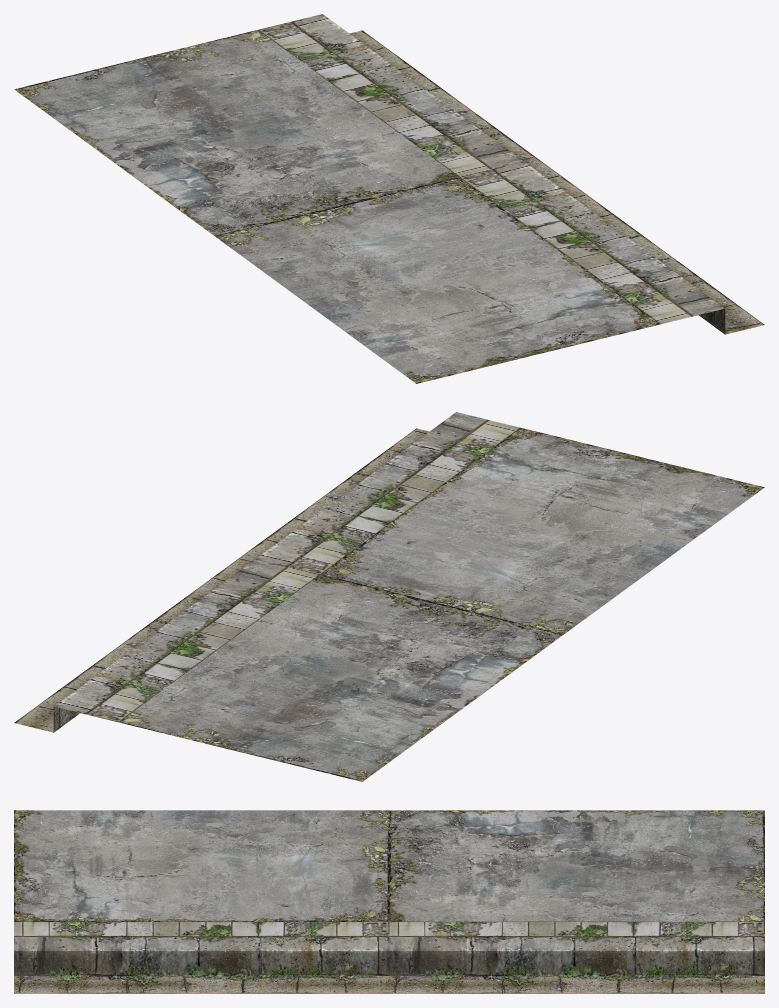
Rendered from Sidewalk2_LongB.FBX.
The picture shows the model from 3 angles, top to bottom: view 1: azimuth 30°, elevation 25°; view 2: azimuth 150°, elevation 25°; view 3: azimuth 270°, elevation 25°; orthographic projection. The views are drawn at different scales.
Parts seen in each view (by area): view 1: Sidewalk2_LongB; view 2: Sidewalk2_LongB; view 3: Sidewalk2_LongB.
Boxes of the visible parts, x1,y1,x2,y2 form: Sidewalk2_LongB: [14, 14, 764, 383]; Sidewalk2_LongB: [14, 412, 764, 781]; Sidewalk2_LongB: [14, 810, 764, 993].
Size of the model in its own units: 350 by 25 by 700.
Materials: 2 (2 with a texture image).
